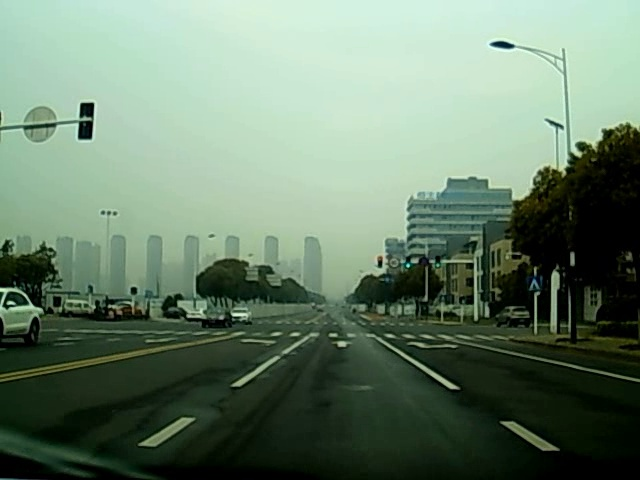Traffic_Light_go: (404, 255, 412, 271), (434, 254, 441, 271)
Traffic_Light_stop: (376, 256, 384, 270)
